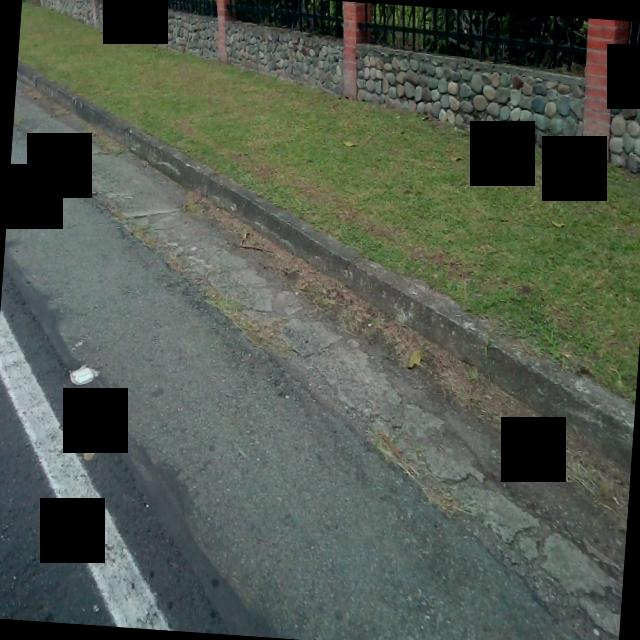DITCH: (0, 26, 640, 640), (0, 67, 640, 640), (47, 42, 640, 640)
